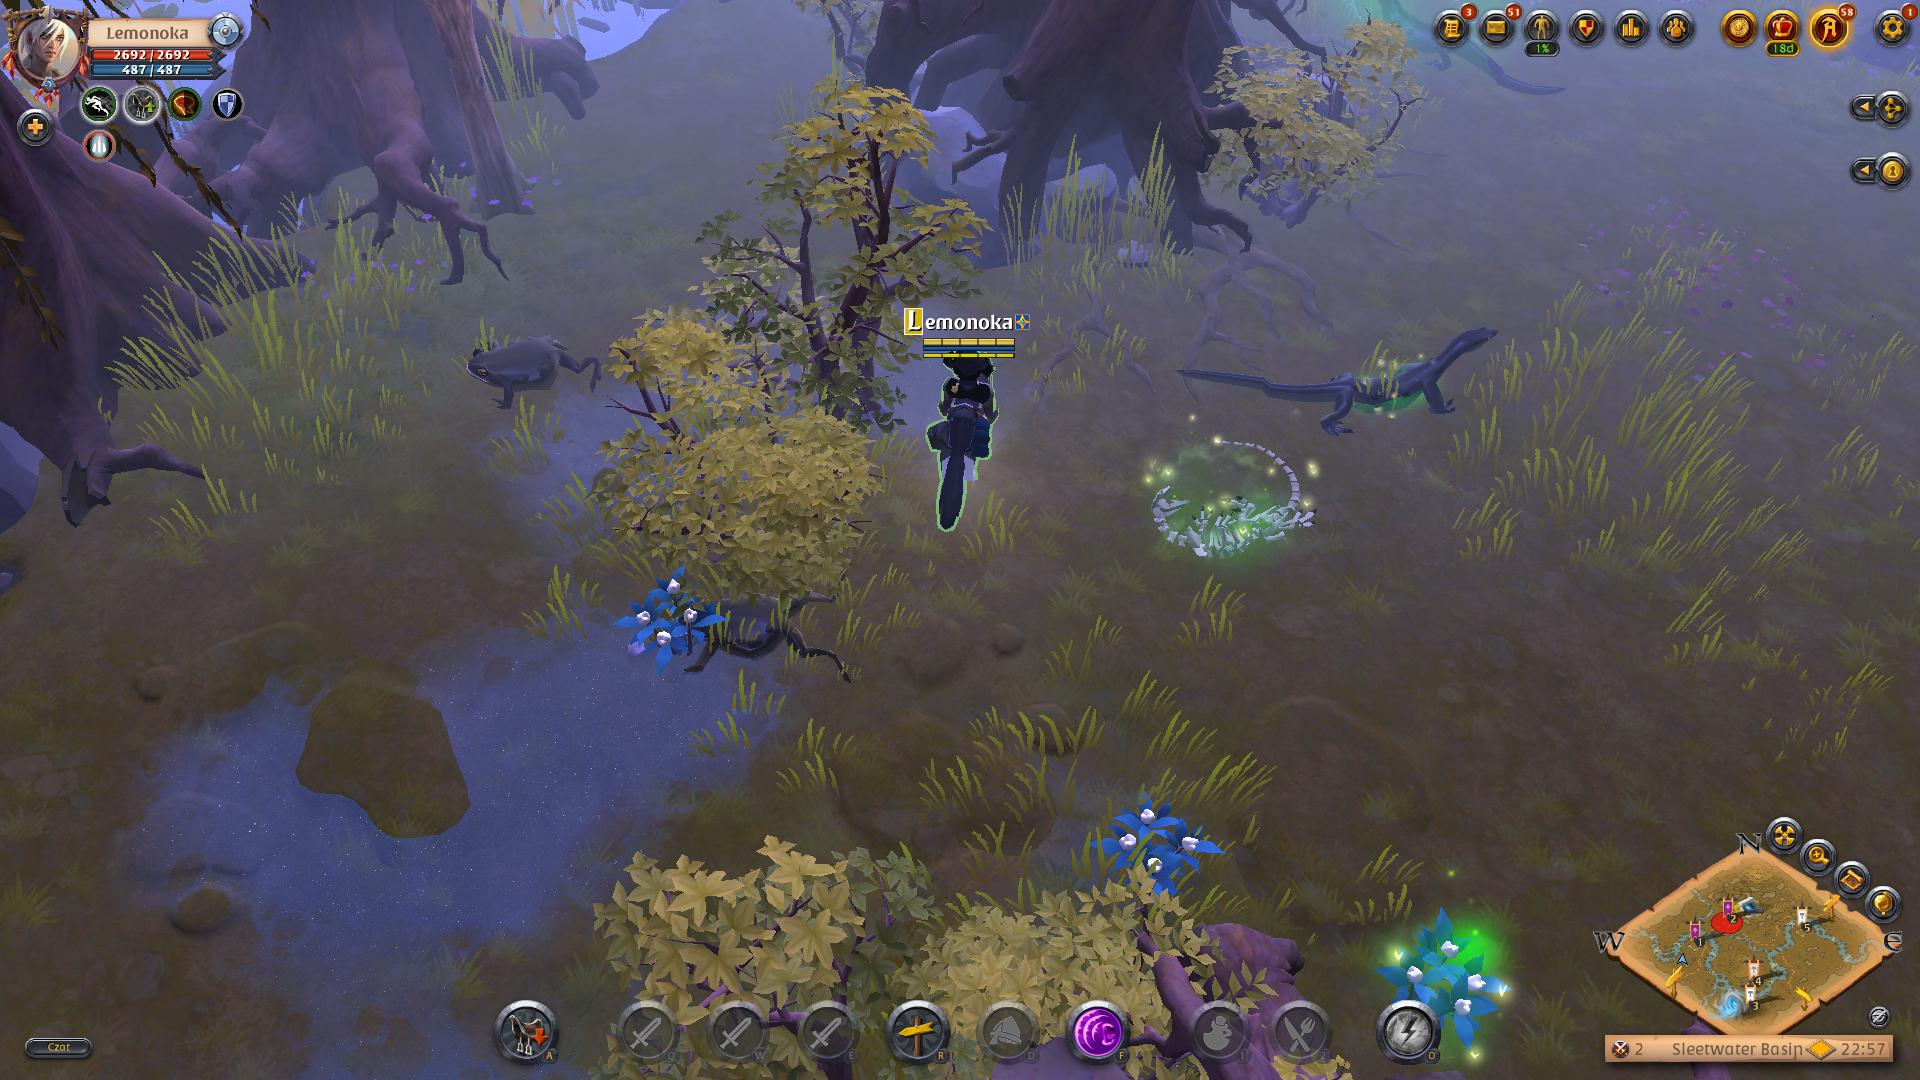fiber tier 4: (1098, 790, 1228, 909), (618, 568, 725, 674)
